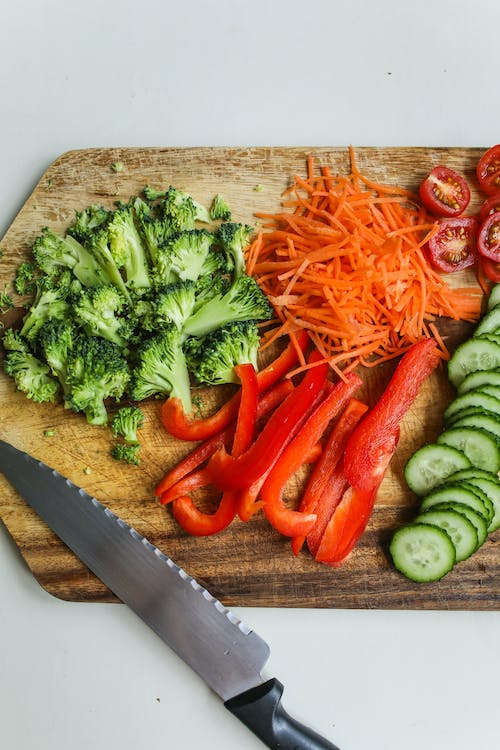knife: (0, 437, 344, 750)
